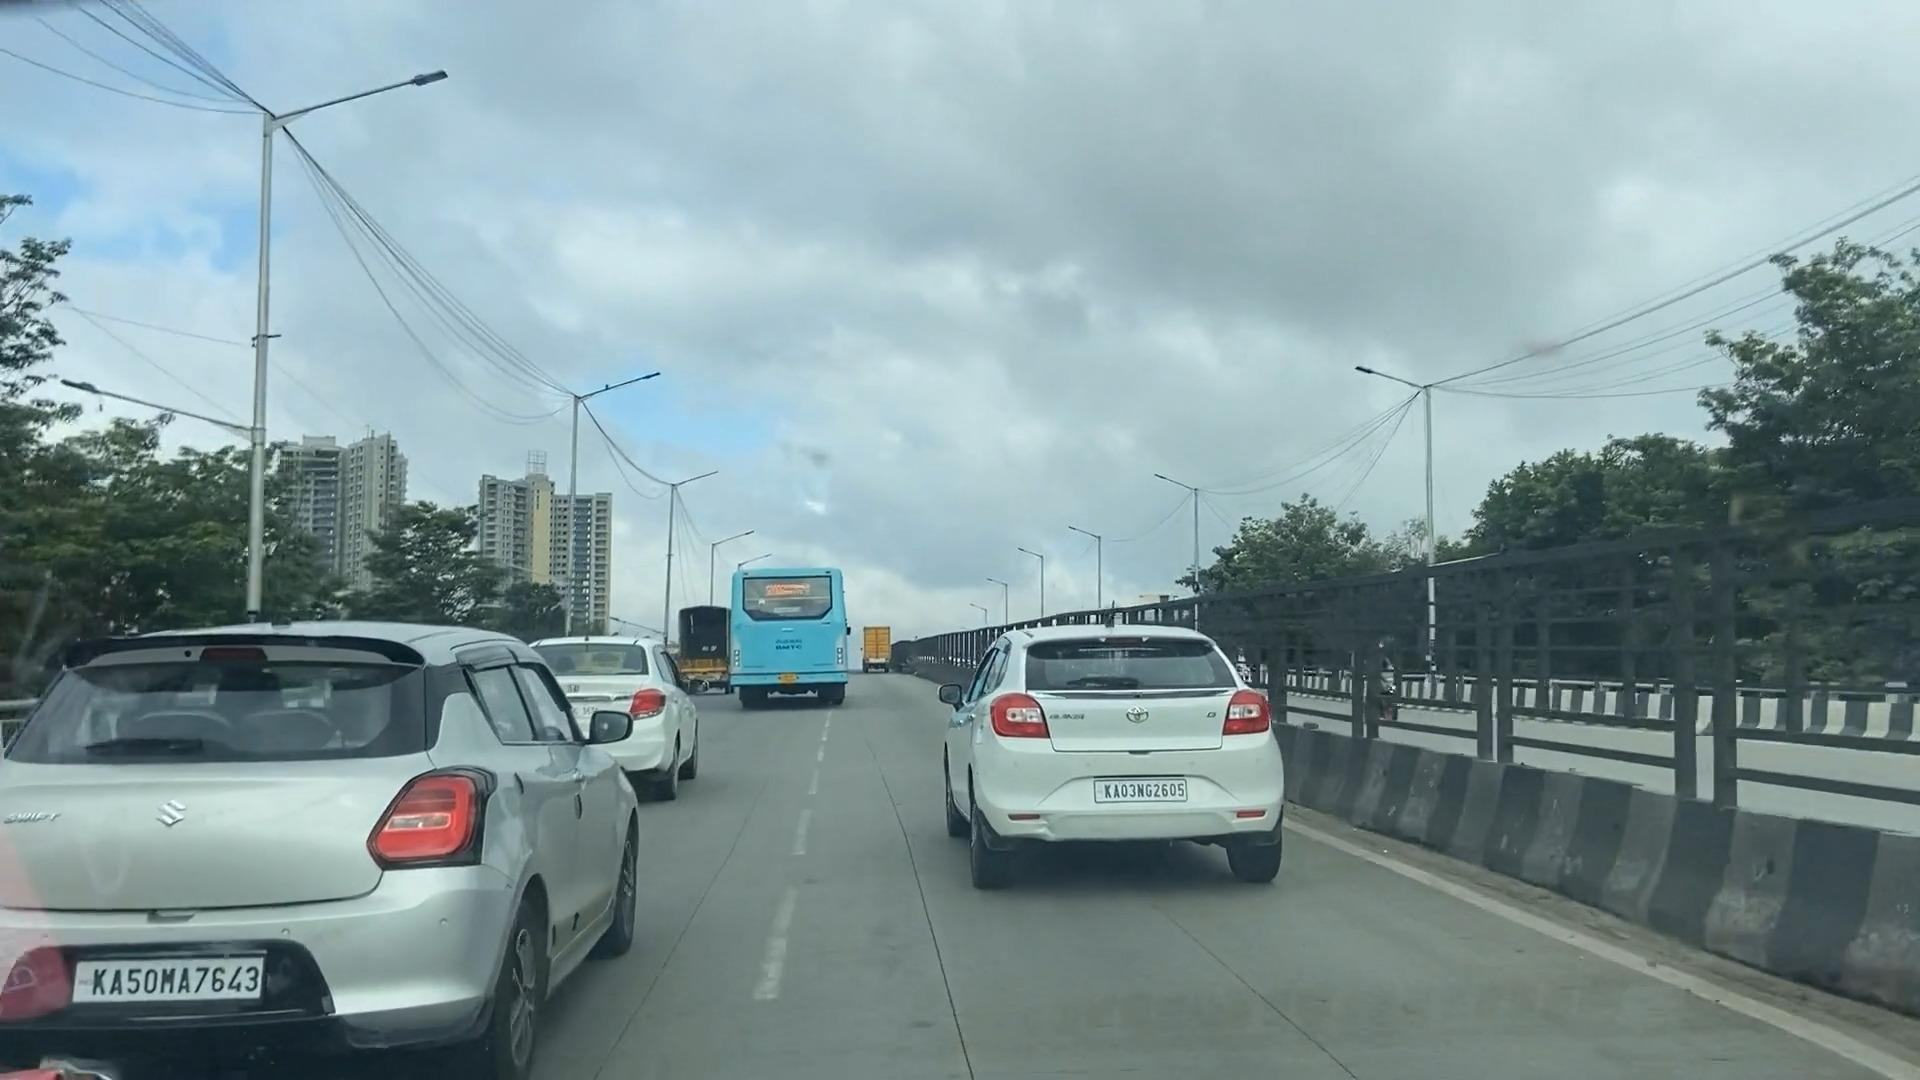HMV: (728, 546, 870, 737)
LMV: (0, 564, 669, 1080), (931, 620, 1333, 915)
